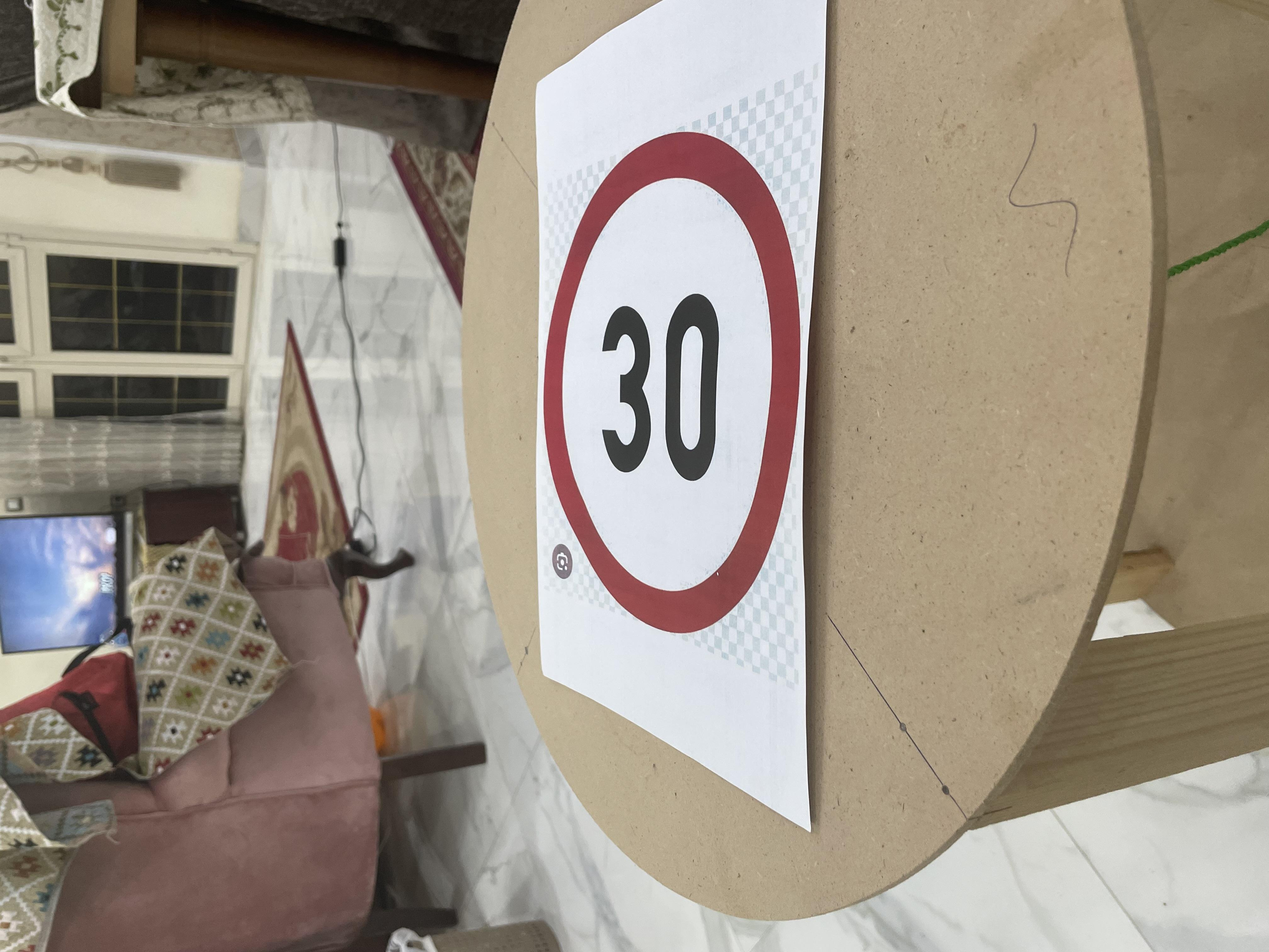30-speed: (429, 390, 1127, 611)
